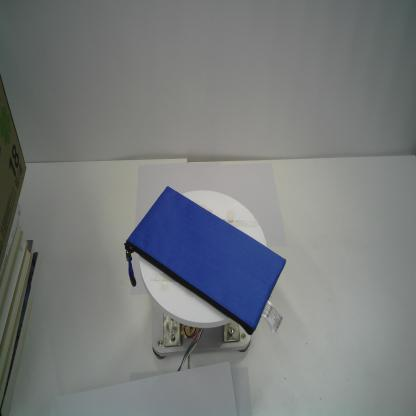Stationery: (123, 183, 290, 341)
